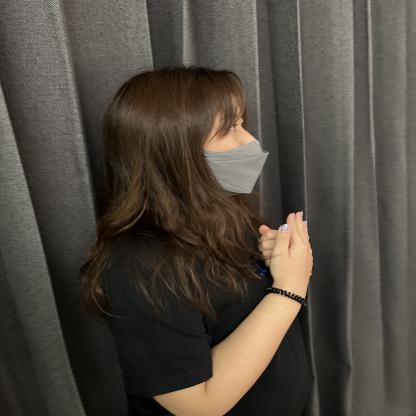Grieve: (192, 193, 394, 355)
